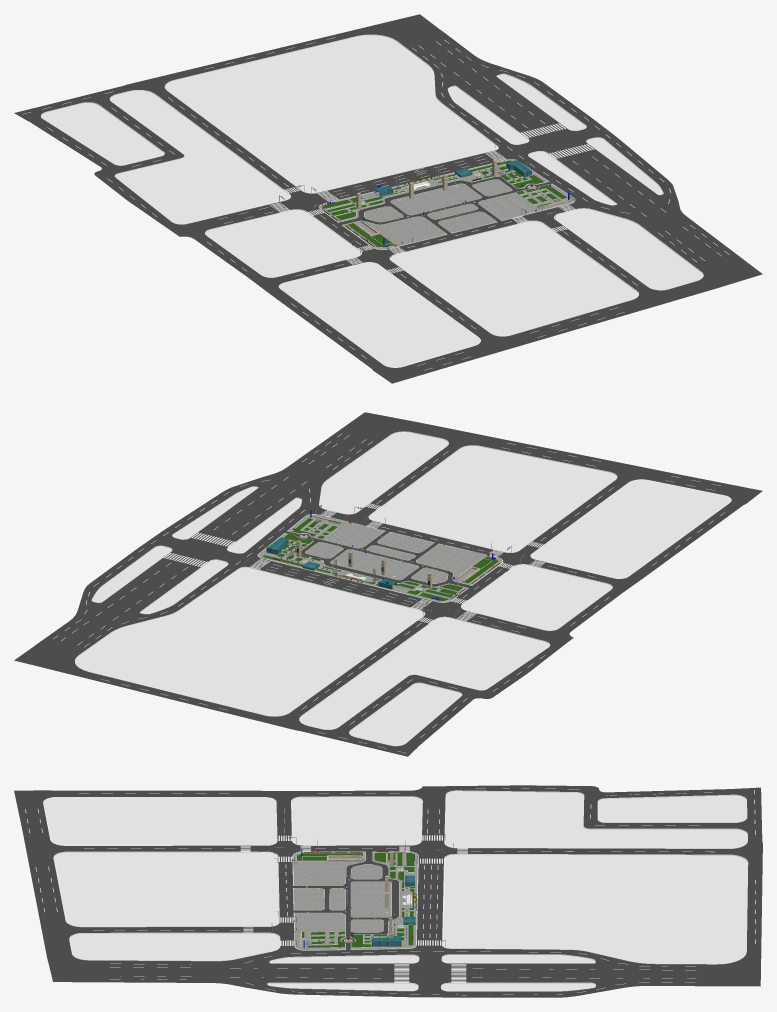
File: 04SMALLback.FBX
3 renders of one model, top to bottom at view 1: azimuth 30°, elevation 25°; view 2: azimuth 150°, elevation 25°; view 3: azimuth 270°, elevation 25°, orthographic. The views are drawn at different scales.
Parts seen in each view (by area): view 1: 地块, 场地_马路, 小地块, 小场地路台, 修改场地_白线, 中间草地, 花坛, 小地块2; view 2: 地块, 场地_马路, 小地块, 小场地路台, 修改场地_白线, 中间草地, 花坛, 小地块2; view 3: 地块, 场地_马路, 小场地路台, 小地块, 修改场地_白线, 中间草地, 小地块2, 花坛, 修改地铁玻璃.
Part boxes in pixels (x1,y1,x2,y2): 地块: (41, 35, 702, 367); 场地_马路: (14, 14, 762, 383); 小地块: (342, 179, 574, 249); 小场地路台: (41, 34, 703, 336); 修改场地_白线: (22, 37, 729, 370); 中间草地: (323, 160, 566, 247); 花坛: (323, 160, 567, 247); 小地块2: (320, 159, 548, 222); 地块: (75, 432, 731, 745); 场地_马路: (14, 412, 762, 756); 小地块: (288, 514, 502, 585); 小场地路台: (74, 431, 617, 746); 修改场地_白线: (53, 433, 725, 753); 中间草地: (262, 518, 498, 600); 花坛: (262, 518, 498, 601); 小地块2: (258, 533, 467, 602); 地块: (44, 791, 747, 990); 场地_马路: (14, 785, 762, 997); 小场地路台: (53, 790, 748, 991); 小地块: (293, 852, 391, 949); 修改场地_白线: (25, 788, 755, 995); 中间草地: (297, 853, 415, 947); 小地块2: (350, 852, 417, 949); 花坛: (296, 852, 414, 948); 修改地铁玻璃: (372, 875, 415, 946).
Size of the model in its own units: 2184 by 87.51 by 3256.
35 materials, 17 textured.
